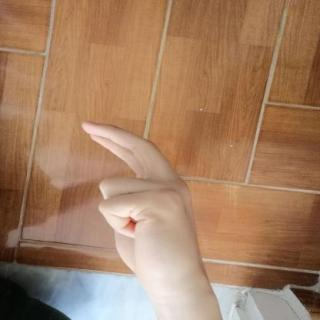ZAY: (70, 112, 214, 293)
